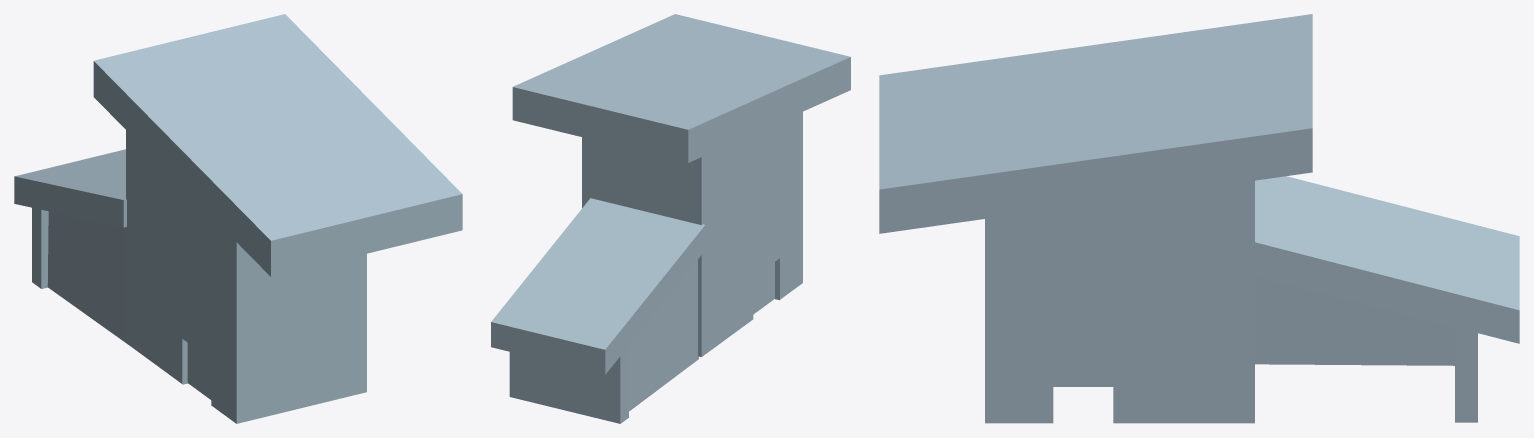
The model's file is Housing2Nav.glb.
The picture shows the model from 3 angles, left to right: view 1: azimuth 30°, elevation 25°; view 2: azimuth 150°, elevation 25°; view 3: azimuth 270°, elevation 25°; orthographic projection. The views are drawn at different scales.
Parts seen in each view (by area): view 1: Cube.001, Cube, Cube.002, Cube.004, Cube.003; view 2: Cube.001, Cube, Cube.004, Cube.003, Cube.002; view 3: Cube.001, Cube, Cube.004, Cube.002, Cube.003.
Part boxes in pixels (box(x1,y1,x2,y2)): Cube.001: box(93, 14, 462, 276); Cube: box(126, 130, 366, 423); Cube.002: box(47, 211, 125, 342); Cube.004: box(14, 149, 126, 227); Cube.003: box(32, 207, 48, 288); Cube.001: box(512, 14, 850, 162); Cube: box(582, 112, 802, 356); Cube.004: box(491, 198, 705, 374); Cube.003: box(509, 346, 628, 423); Cube.002: box(629, 260, 698, 411); Cube.001: box(879, 14, 1312, 233); Cube: box(985, 180, 1254, 423); Cube.004: box(1255, 176, 1519, 343); Cube.002: box(1255, 276, 1454, 365); Cube.003: box(1455, 327, 1477, 422).
Bounding box in the file's own units: 5 × 6.8 × 11.85.
